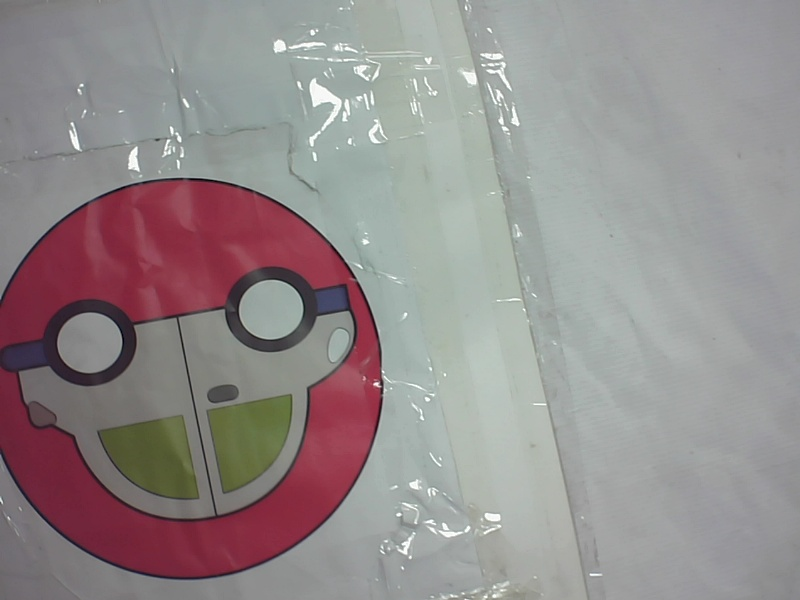areaC: (3, 173, 401, 583)
